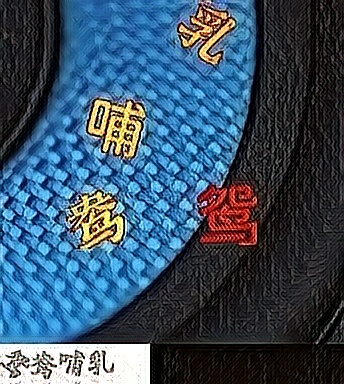B2B8: (83, 95, 148, 159)
C8E9: (174, 4, 239, 68)
D1EC: (62, 189, 127, 253)
D4A7: (195, 182, 260, 246)
